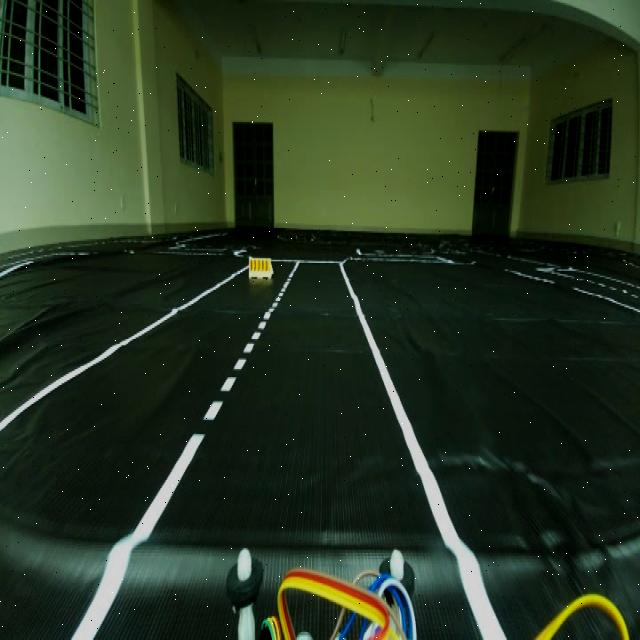roadblock: (245, 249, 274, 283)
